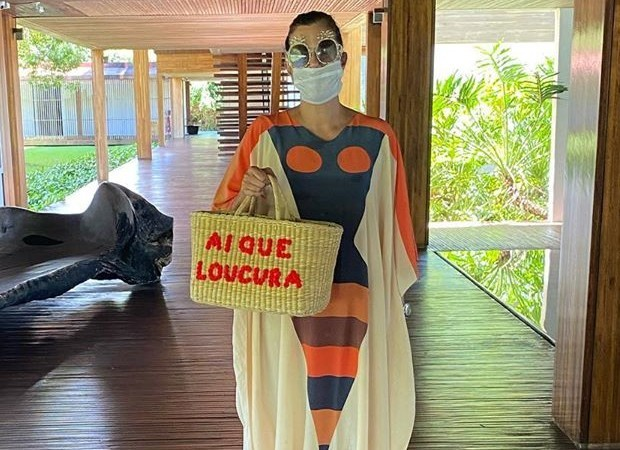mask_weared_incorrect: (284, 28, 349, 103)
